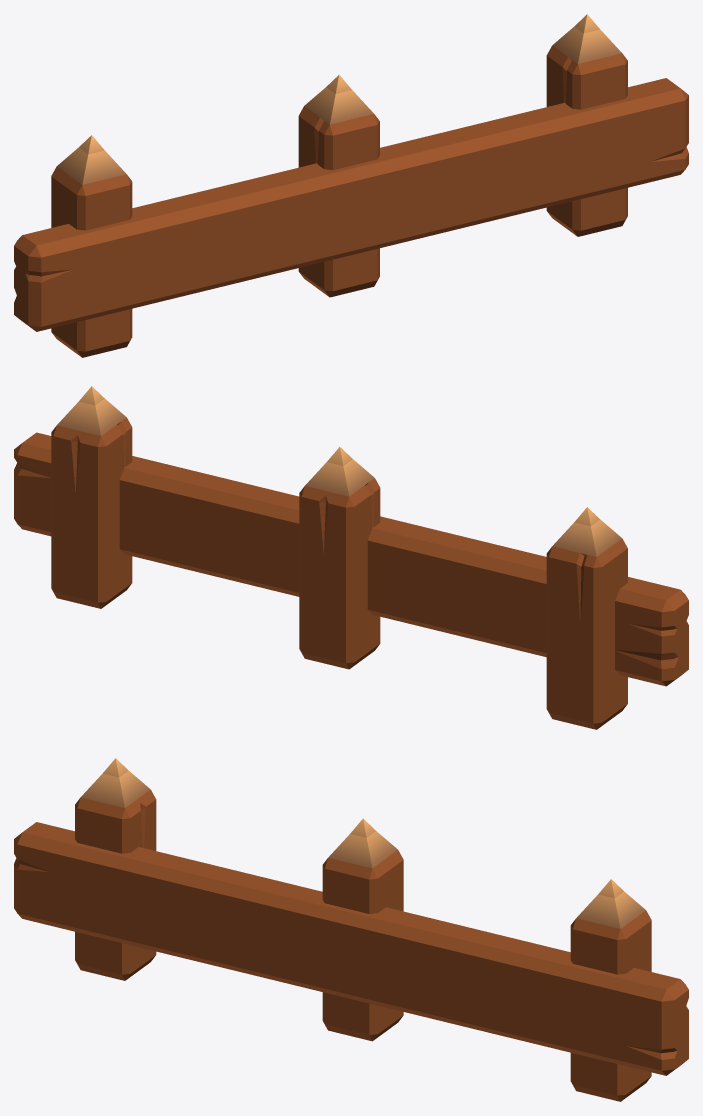
File: m_dec_dung_fenceLargeA.fbx
The picture shows the model from 3 angles, top to bottom: view 1: azimuth 30°, elevation 25°; view 2: azimuth 150°, elevation 25°; view 3: azimuth 330°, elevation 25°; orthographic projection.
Parts seen in each view (by area): view 1: m_dec_dung_fenceLargeA; view 2: m_dec_dung_fenceLargeA; view 3: m_dec_dung_fenceLargeA.
Boxes of the visible parts, bbox=[...] form: m_dec_dung_fenceLargeA: bbox=[14, 14, 688, 357]; m_dec_dung_fenceLargeA: bbox=[14, 386, 688, 729]; m_dec_dung_fenceLargeA: bbox=[14, 758, 688, 1101].
Bounding box in the file's own units: 8 × 2.41 × 0.837.
